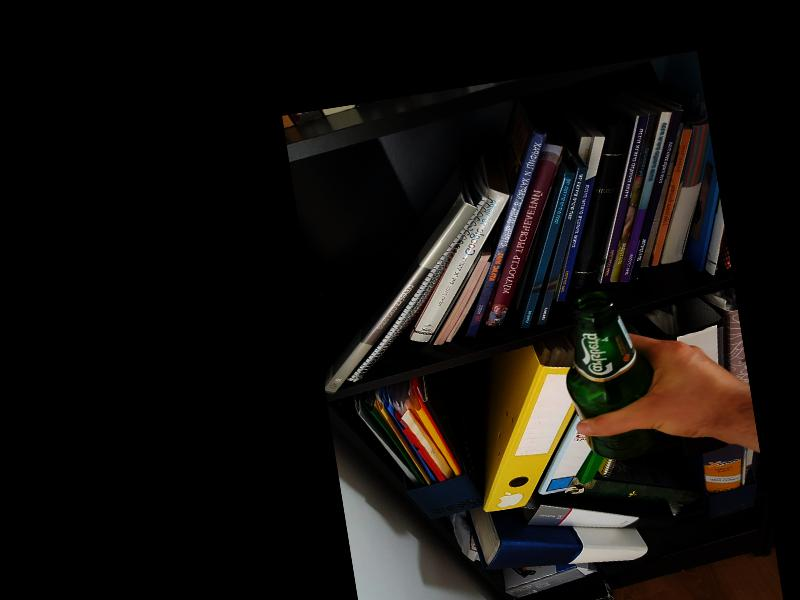Beer: (554, 285, 663, 468)
